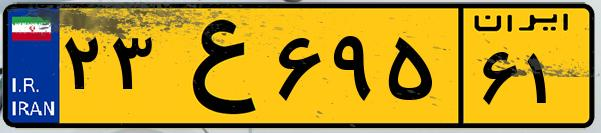1: (525, 38, 570, 115)
2: (57, 26, 110, 100)
3: (110, 28, 158, 98)
5: (385, 28, 445, 110)
6: (270, 28, 330, 110), (475, 38, 525, 113)
9: (330, 28, 385, 110)
ع: (158, 12, 270, 120)
